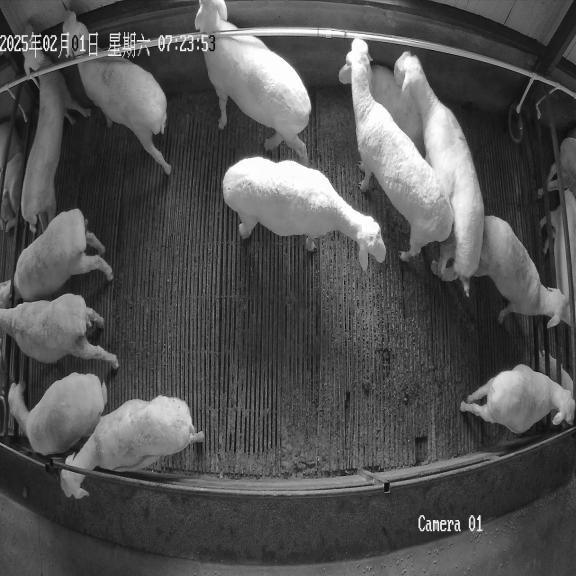lying: (339, 55, 425, 156), (8, 372, 107, 455)
stand: (346, 38, 454, 260), (394, 52, 484, 295), (195, 0, 311, 164), (223, 157, 386, 269), (62, 11, 171, 174), (60, 395, 204, 498), (21, 30, 91, 233), (472, 216, 569, 327), (13, 209, 113, 301), (0, 294, 119, 370), (460, 364, 574, 433)
